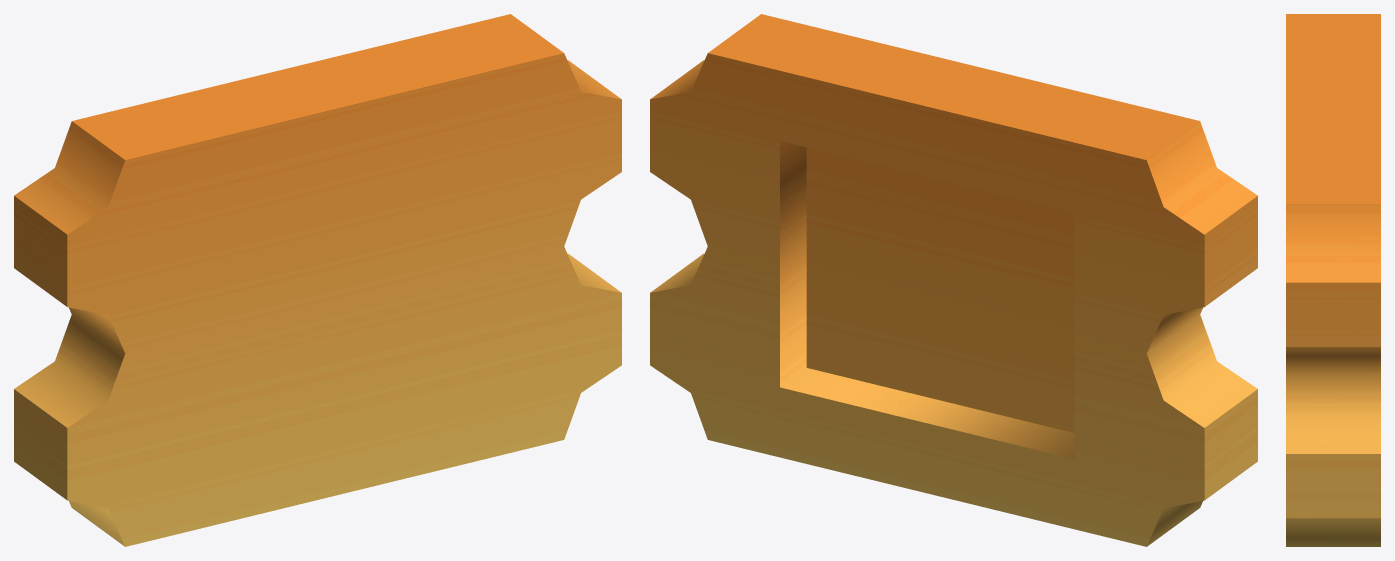
The model's file is ticket-coin_lev2.glb.
3 renders of one model, left to right at view 1: azimuth 30°, elevation 25°; view 2: azimuth 150°, elevation 25°; view 3: azimuth 270°, elevation 25°, orthographic. The views are drawn at different scales.
Visible parts, largest first — view 1: ticket-coin_lev2; view 2: ticket-coin_lev2; view 3: ticket-coin_lev2.
Part boxes in pixels (box(x1,y1,x2,y2)): ticket-coin_lev2: box(14, 14, 621, 546); ticket-coin_lev2: box(650, 14, 1257, 546); ticket-coin_lev2: box(1286, 14, 1380, 546).
Size of the model in its own units: 1.2 by 0.7995 by 0.2004.
Materials: 1 (1 with a texture image).
